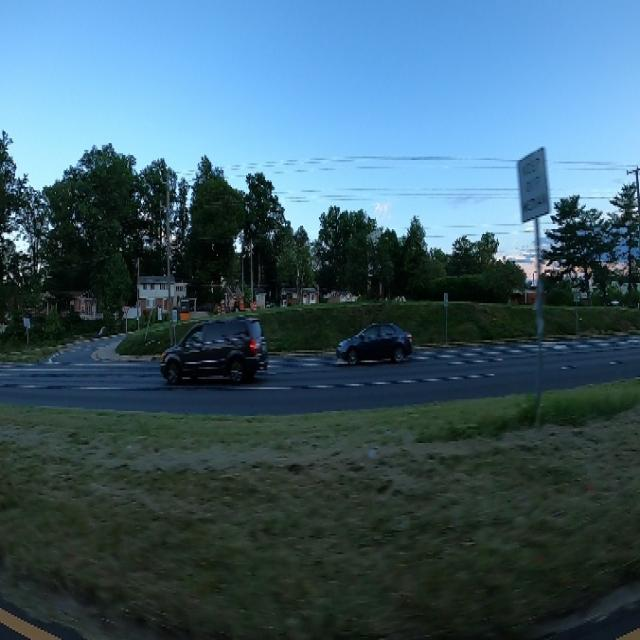cars: (151, 305, 270, 399), (334, 310, 417, 372)
